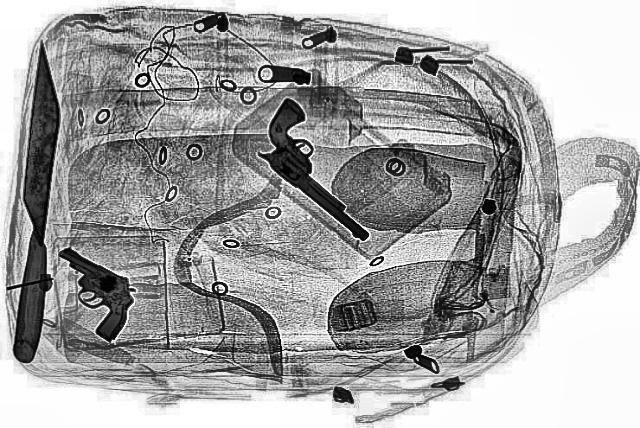Gun: (220, 96, 424, 242), (5, 246, 167, 342)
Knife: (9, 42, 61, 362)
